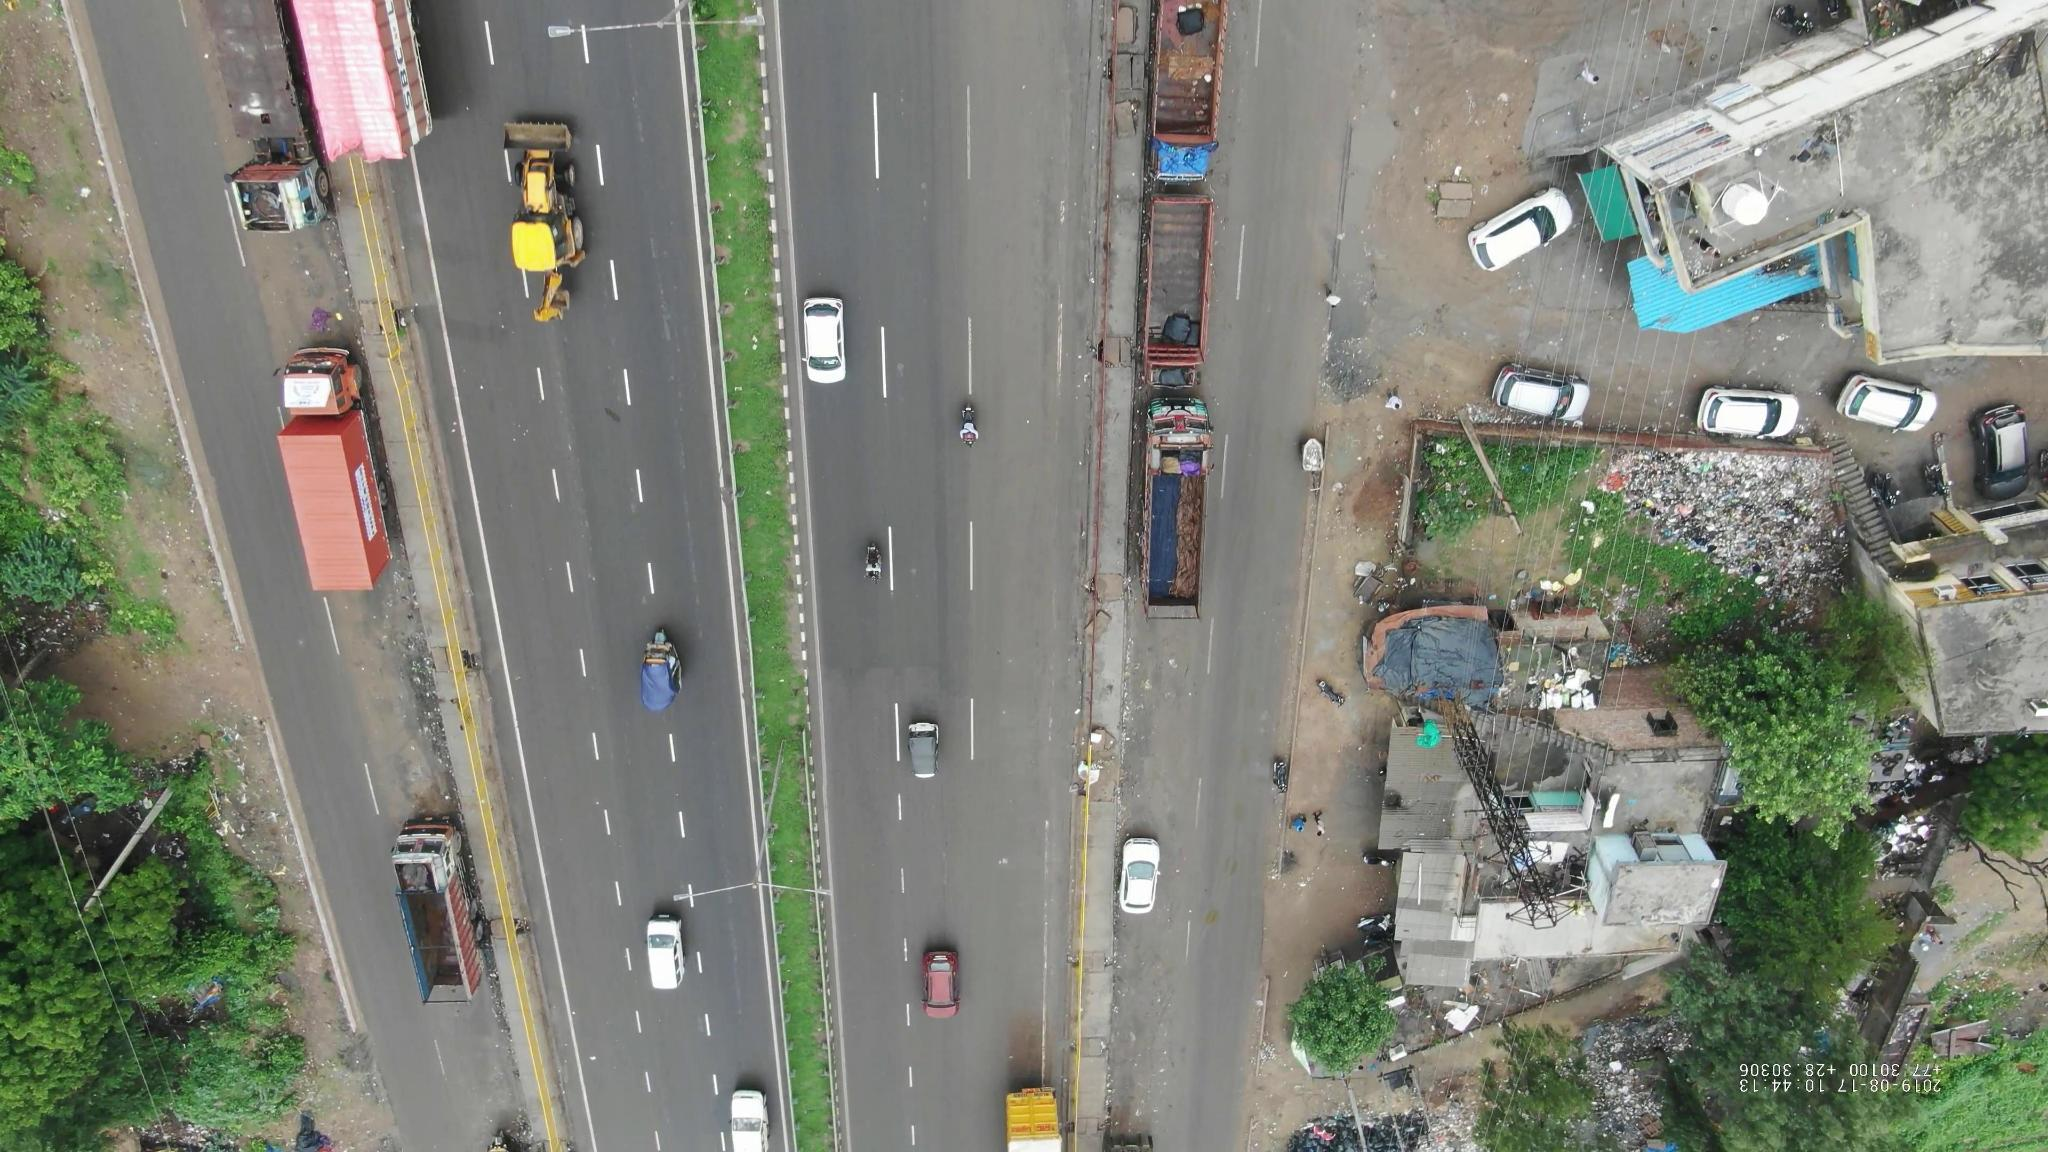Muddy_road: (325, 612, 454, 798), (1127, 935, 1179, 1145), (1144, 637, 1190, 830), (248, 257, 352, 338)
